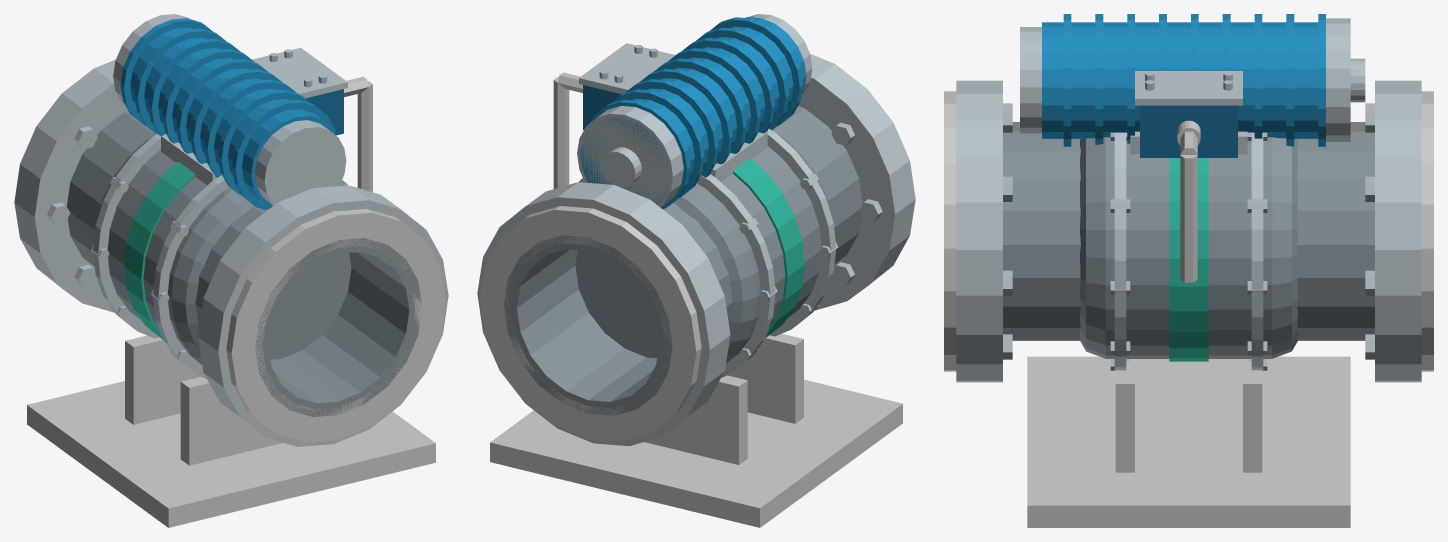
The model's file is body.obj.
3 views of the same model, side by side, from view 1: azimuth 30°, elevation 25°; view 2: azimuth 150°, elevation 25°; view 3: azimuth 270°, elevation 25° (orthographic). The views are drawn at different scales.
Size of the model in its own units: 0.7356 by 0.977 by 1.
